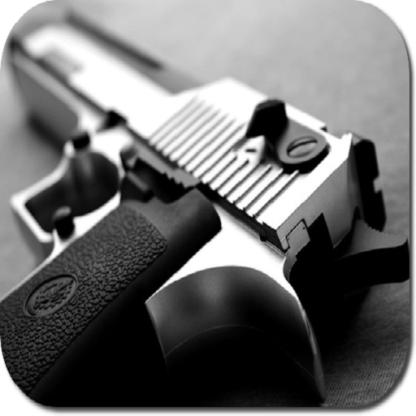handgun: (12, 9, 386, 409)
